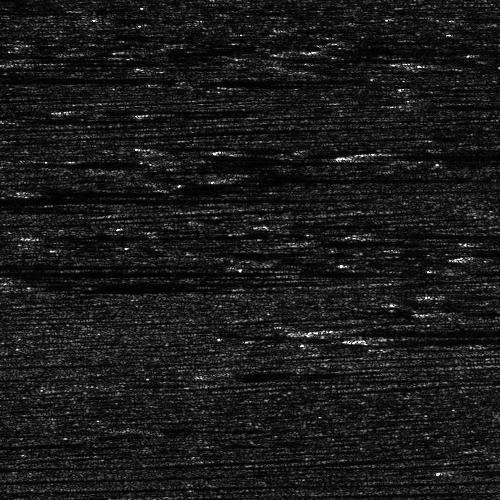rock: (2, 57, 95, 66), (294, 42, 357, 55), (375, 95, 416, 112), (50, 106, 113, 111), (402, 60, 455, 63), (479, 125, 500, 130)
shadow: (326, 42, 500, 55), (396, 95, 500, 112), (49, 57, 186, 66), (0, 67, 134, 74), (0, 76, 166, 81), (82, 106, 214, 111), (429, 60, 500, 63)
